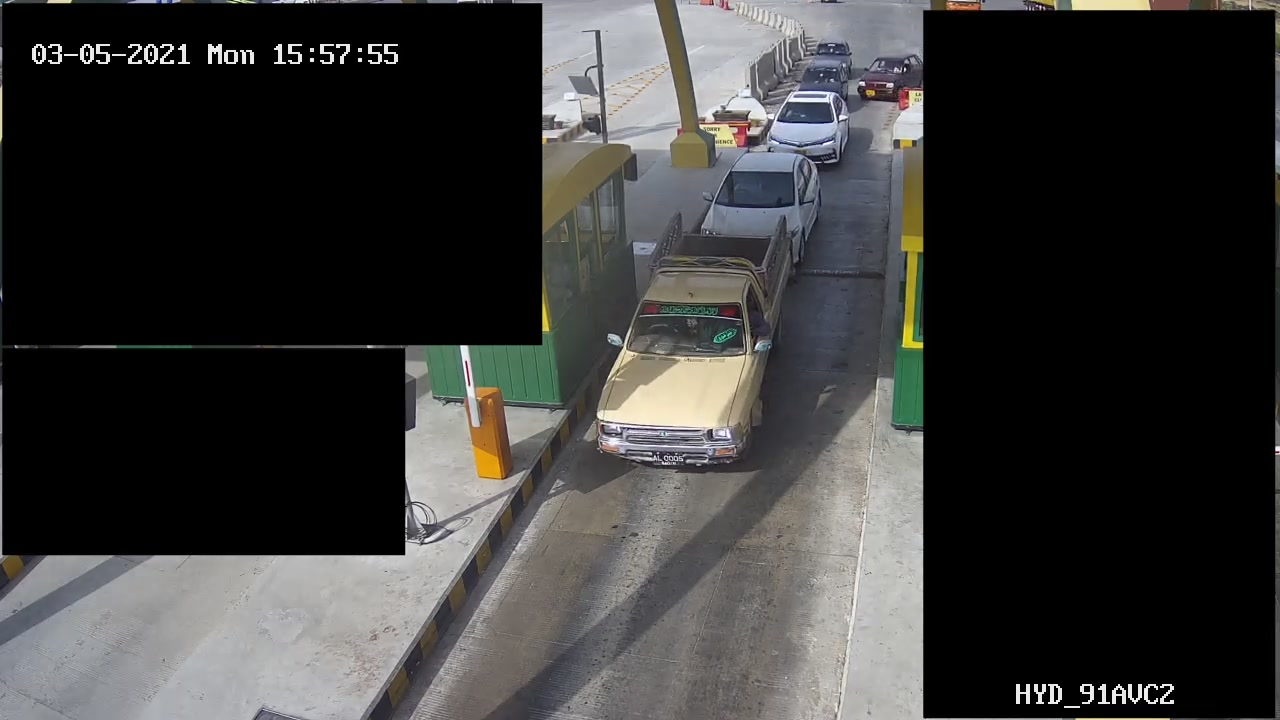F1: (587, 212, 792, 481)
